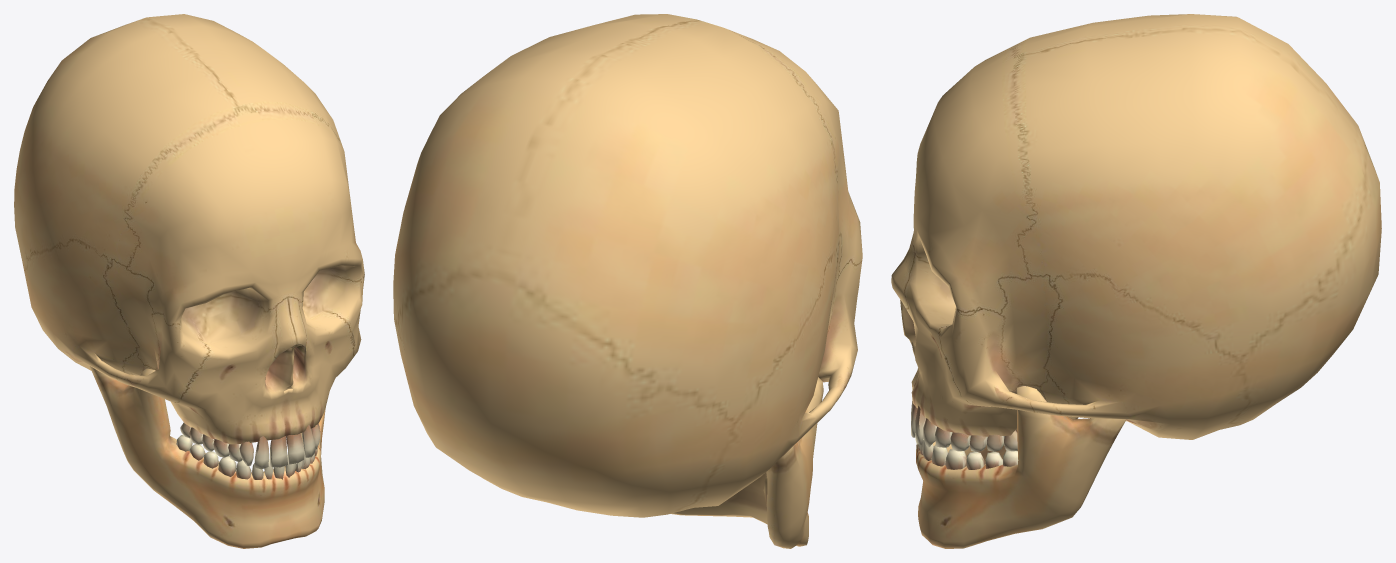
Rendered from skull.glb.
3 views of the same model, side by side, from view 1: azimuth 30°, elevation 25°; view 2: azimuth 150°, elevation 25°; view 3: azimuth 270°, elevation 25° (orthographic). The views are drawn at different scales.
Visible parts, largest first — view 1: Skull; view 2: Skull; view 3: Skull.
Boxes of the visible parts, x1,y1,x2,y2 form: Skull: [14, 14, 364, 548]; Skull: [393, 14, 862, 548]; Skull: [891, 14, 1381, 548].
Size of the model in its own units: 0.1482 by 0.22 by 0.1965.
Materials: 1 (1 with a texture image).
